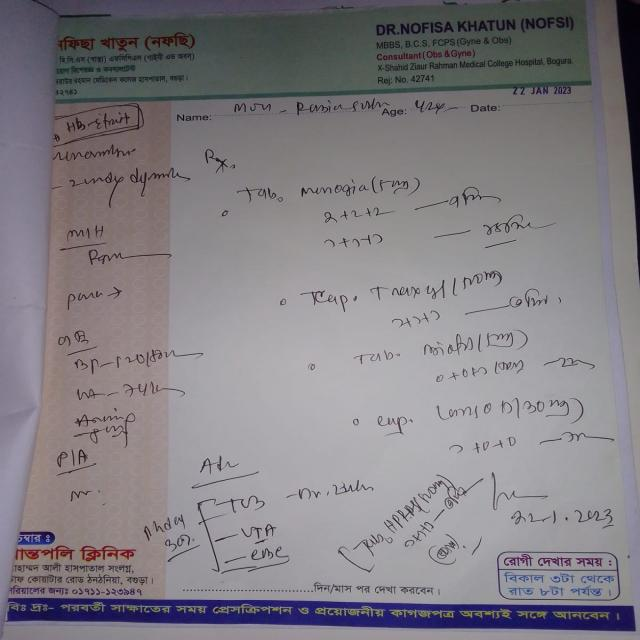HPR-DS: (378, 475, 449, 534)
Lanso D: (429, 400, 518, 426)
Menogia: (292, 177, 370, 201)
Traxyl: (363, 276, 456, 307)
